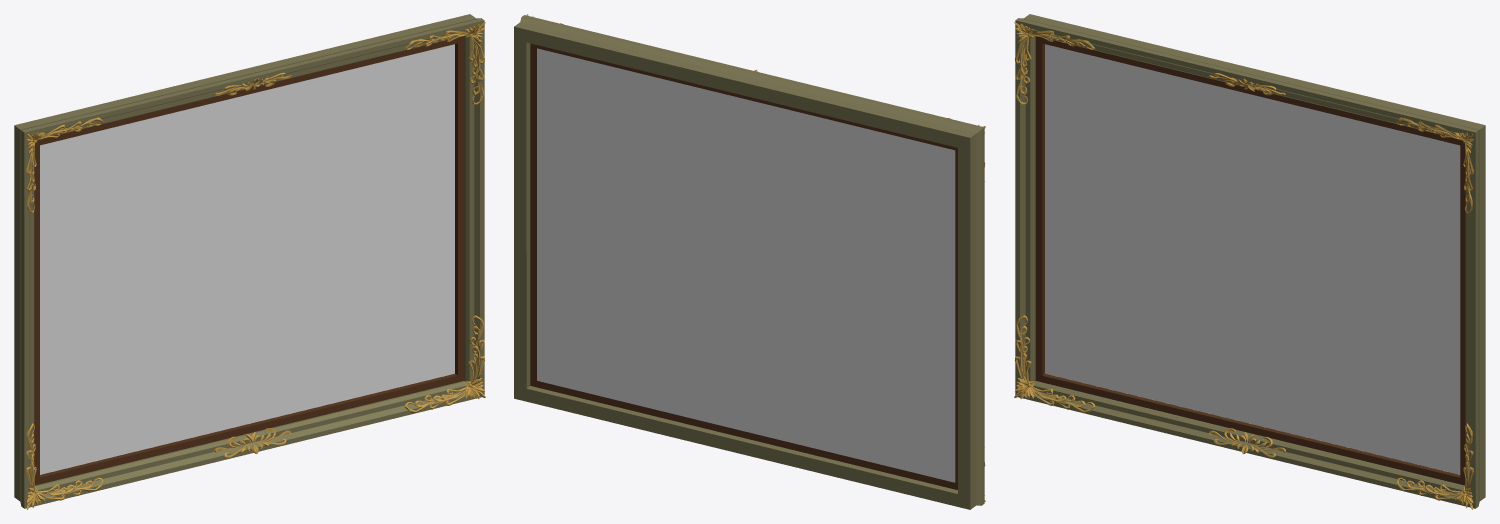
The model's file is frame001_.glb.
3 renders of one model, left to right at view 1: azimuth 30°, elevation 25°; view 2: azimuth 150°, elevation 25°; view 3: azimuth 330°, elevation 25°, orthographic.
Parts seen in each view (by area): view 1: canvas_平面, frame_Cube.003, frame_inner_Cube.001, moyou001_Lines.001, moyou021_Lines.002; view 2: canvas_平面, frame_Cube.003, frame_inner_Cube.001; view 3: canvas_平面, frame_Cube.003, frame_inner_Cube.001, moyou001_Lines.001, moyou021_Lines.002.
Boxes of the visible parts, x1,y1,x2,y2 form: canvas_平面: (40, 44, 454, 474); frame_Cube.003: (14, 14, 484, 508); frame_inner_Cube.001: (34, 36, 464, 485); moyou001_Lines.001: (26, 24, 484, 506); moyou021_Lines.002: (214, 72, 291, 457); canvas_平面: (537, 48, 955, 482); frame_Cube.003: (514, 15, 984, 509); frame_inner_Cube.001: (530, 43, 957, 490); canvas_平面: (1045, 44, 1460, 474); frame_Cube.003: (1015, 14, 1485, 508); frame_inner_Cube.001: (1035, 36, 1465, 485); moyou001_Lines.001: (1015, 24, 1473, 506); moyou021_Lines.002: (1209, 73, 1285, 457).
Bounding box in the file's own units: 28.49 × 22.26 × 1.57.
